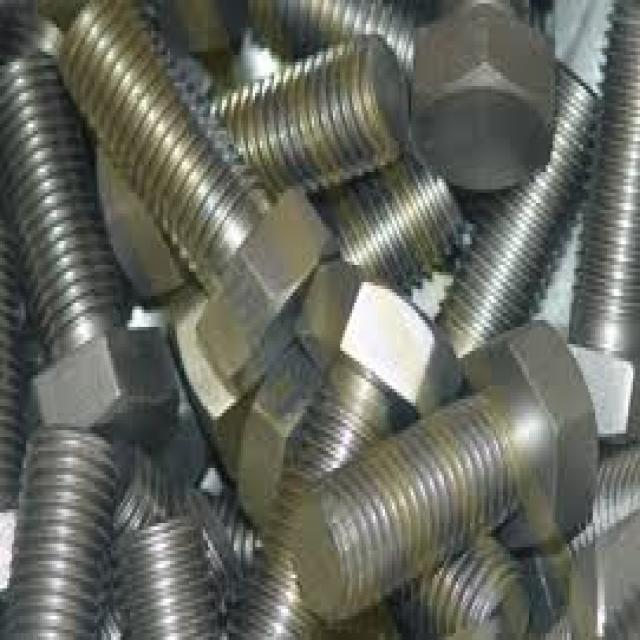metal: (165, 155, 484, 489), (69, 21, 336, 385), (288, 317, 598, 620), (225, 258, 459, 637), (234, 337, 529, 637), (92, 35, 406, 293), (0, 48, 177, 451), (432, 55, 598, 385), (566, 0, 637, 440), (406, 0, 553, 189), (2, 423, 116, 637), (246, 0, 439, 100), (104, 506, 227, 637), (555, 440, 638, 585)
